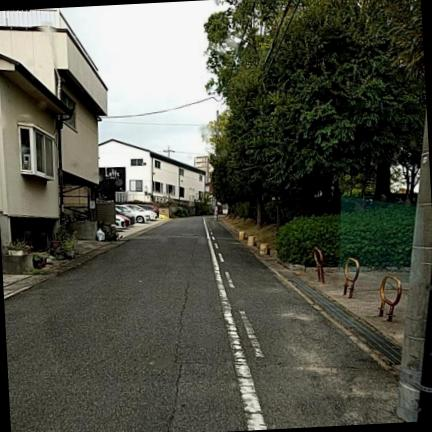Road: (4, 218, 397, 431)
